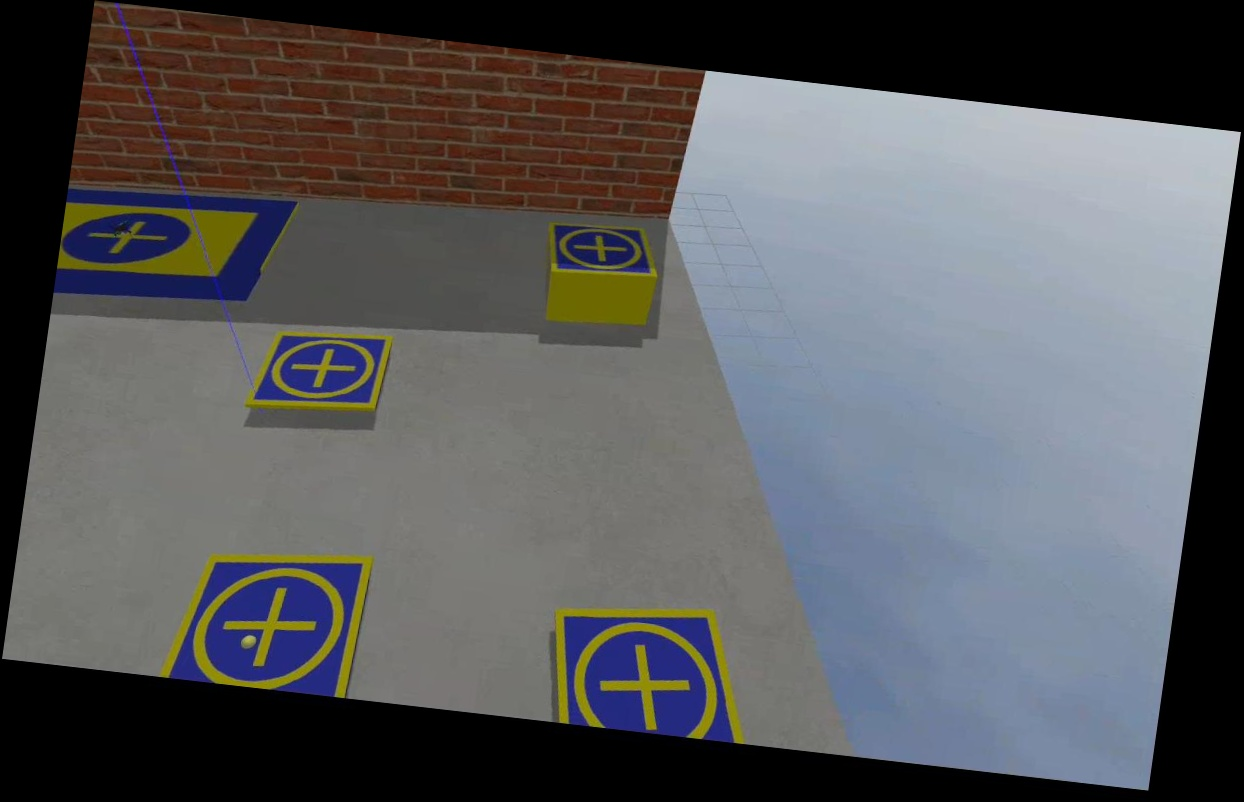large_base: (54, 177, 299, 317)
small_base: (159, 539, 374, 700), (540, 590, 758, 744), (243, 318, 395, 424), (543, 216, 667, 286)
